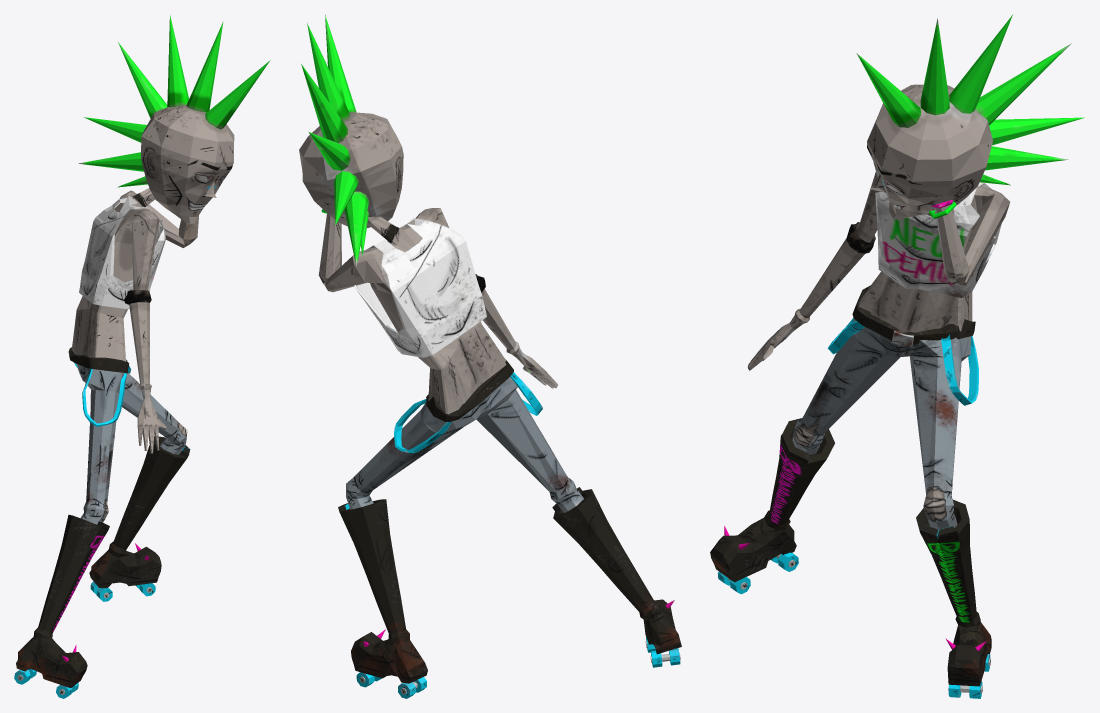
File: punkAnimation_000029.obj
The picture shows the model from 3 angles, left to right: view 1: azimuth 30°, elevation 25°; view 2: azimuth 150°, elevation 25°; view 3: azimuth 270°, elevation 25°; orthographic projection. The views are drawn at different scales.
Visible parts, largest first — view 1: Cube.004_Cube.003; view 2: Cube.004_Cube.003; view 3: Cube.004_Cube.003.
Boxes of the visible parts, left/top/right/bottom form: Cube.004_Cube.003: left=14, top=15, right=270, bottom=698; Cube.004_Cube.003: left=299, top=14, right=681, bottom=698; Cube.004_Cube.003: left=710, top=15, right=1084, bottom=698.
Size of the model in its own units: 3.58 by 6.71 by 3.17.
